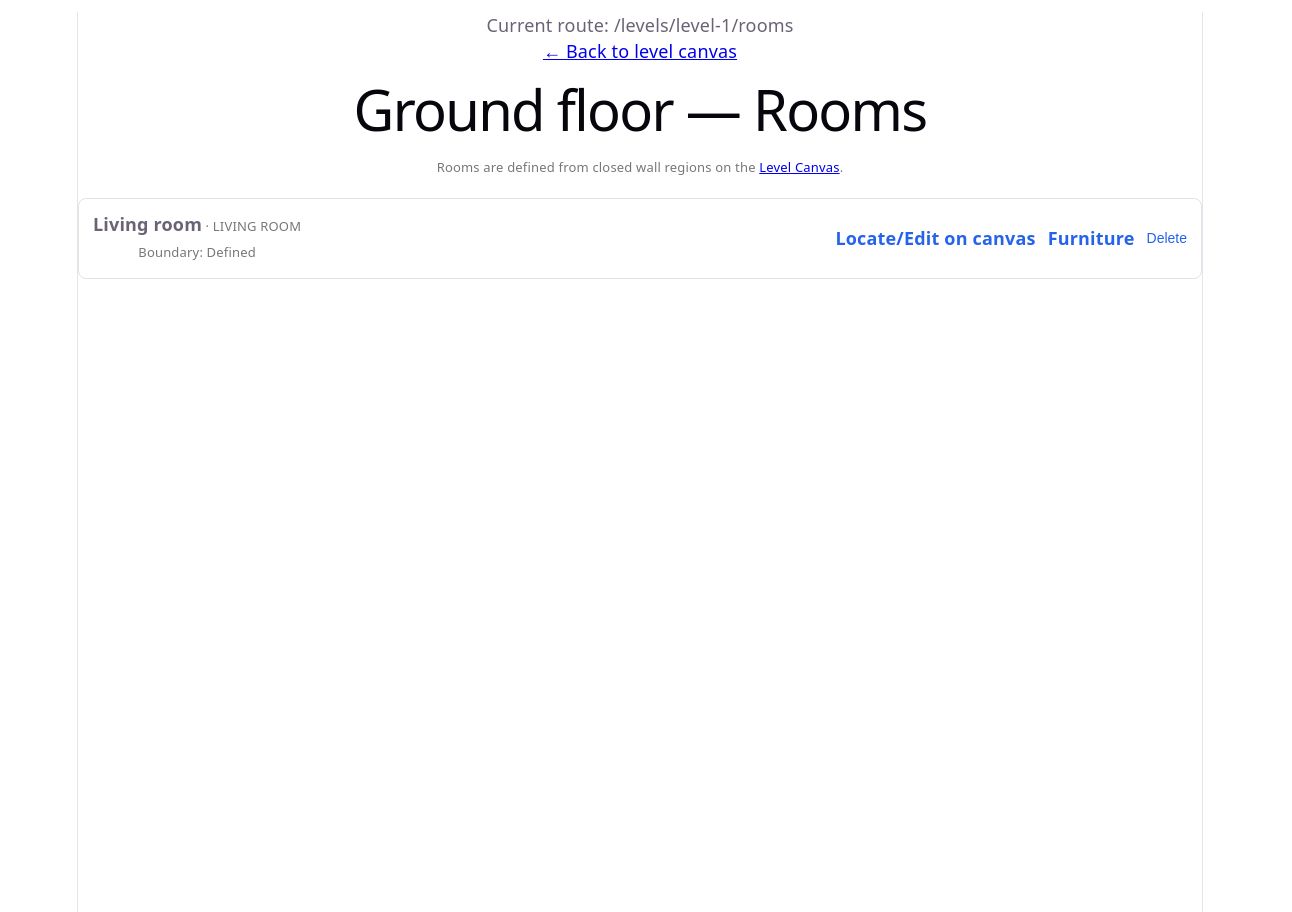
Test: RoomsPage routing › navigates Furniture to RoomFurniturePage and renders catalog UI
Click the link "Furniture" at (1091, 238), box left=1048, top=225, right=1134, bottom=252
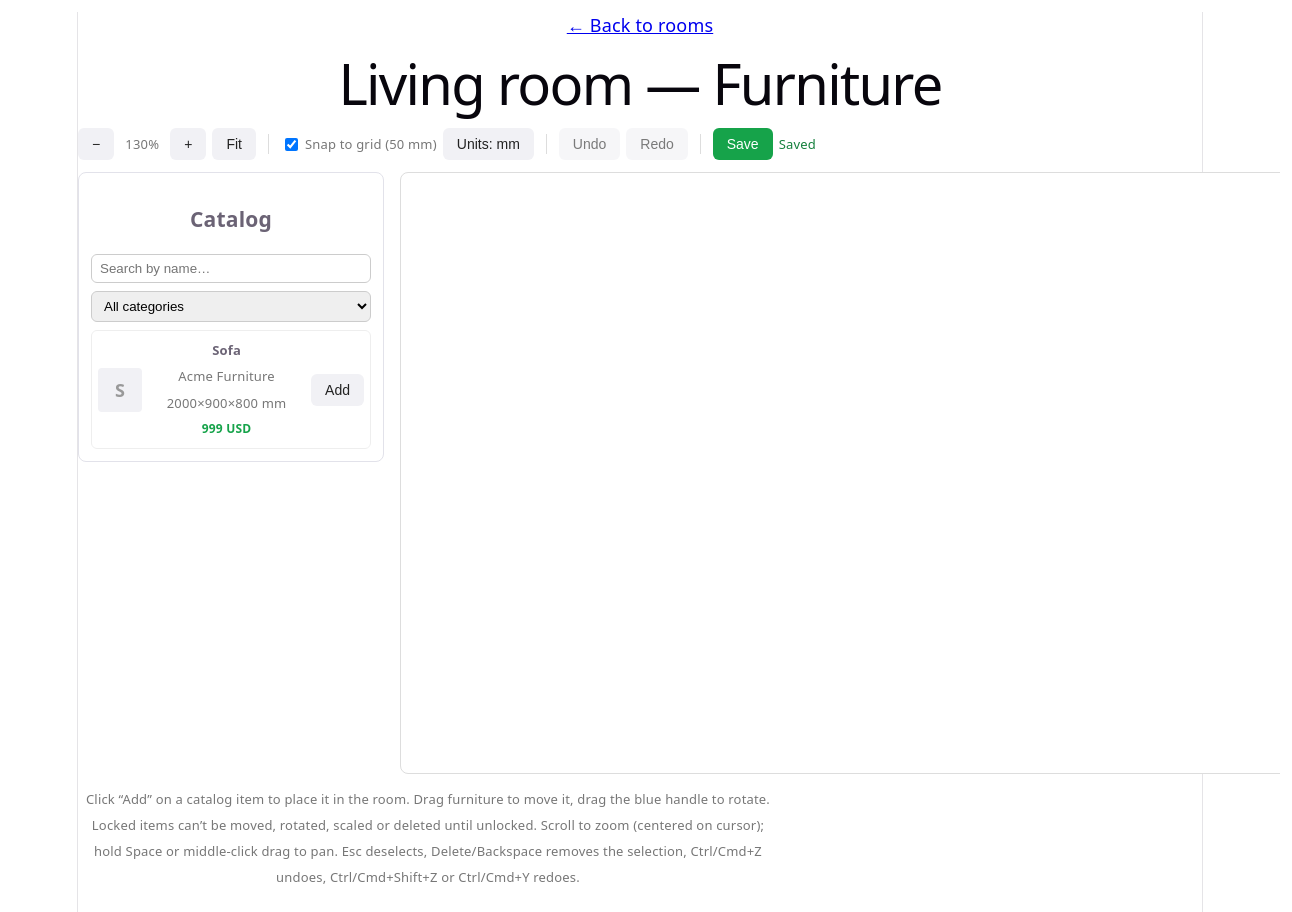
expect the heading "Living room — Furniture" is shown: met, box left=338, top=45, right=942, bottom=121
expect the heading "Catalog" is shown: met, box left=190, top=204, right=272, bottom=233
expect the text "Sofa" is shown: met, box left=212, top=341, right=241, bottom=359
